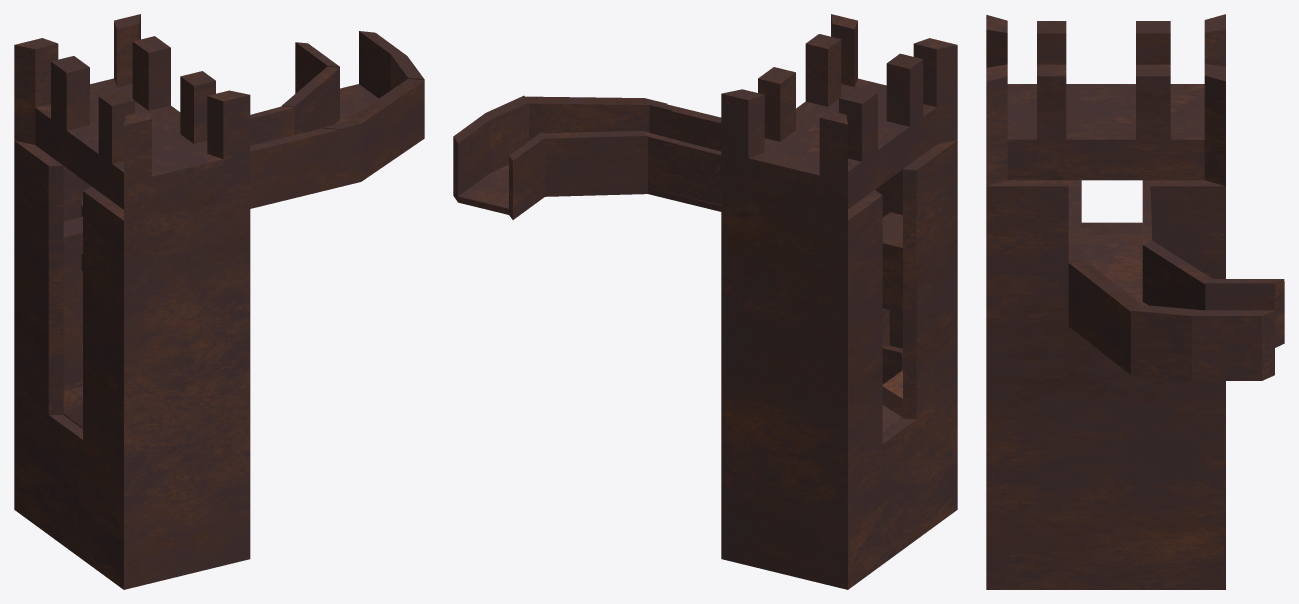
File: Tower2andBridge.fbx
The picture shows the model from 3 angles, left to right: view 1: azimuth 30°, elevation 25°; view 2: azimuth 150°, elevation 25°; view 3: azimuth 270°, elevation 25°; orthographic projection. The views are drawn at different scales.
Parts seen in each view (by area): view 1: Fight 2; view 2: Fight 2; view 3: Fight 2.
Part boxes in pixels (x1,y1,x2,y2): Fight 2: (14,14,424,589); Fight 2: (453,14,957,589); Fight 2: (986,14,1284,589).
Size of the model in its own units: 14387 by 16918 by 8993.
Materials: 1 (1 with a texture image).
